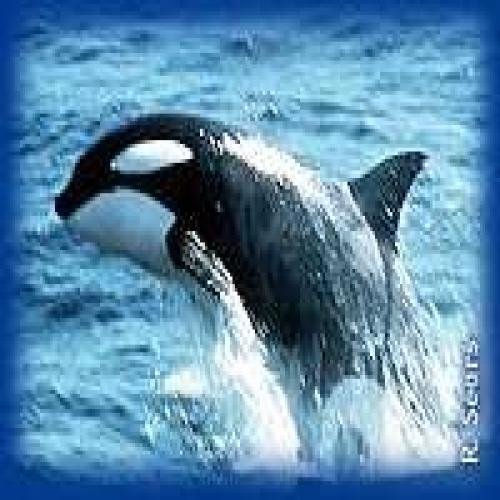killer_whale-endangered: (55, 73, 434, 440)
